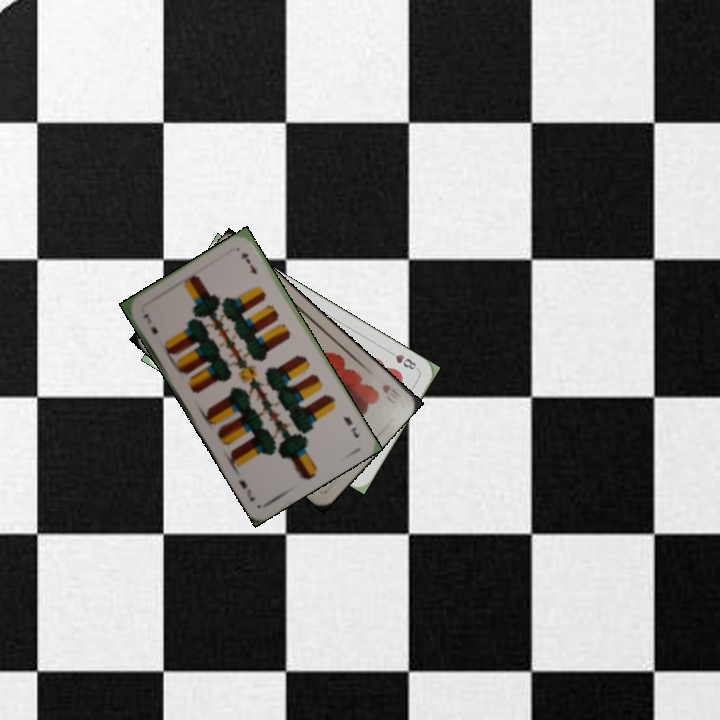E7: (339, 412, 362, 440), (139, 310, 161, 337)
H10: (378, 380, 403, 400)
H8: (384, 347, 421, 373)
